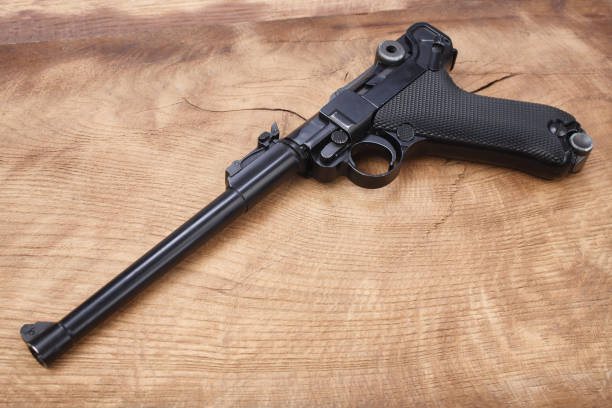gun: (19, 19, 591, 364)
